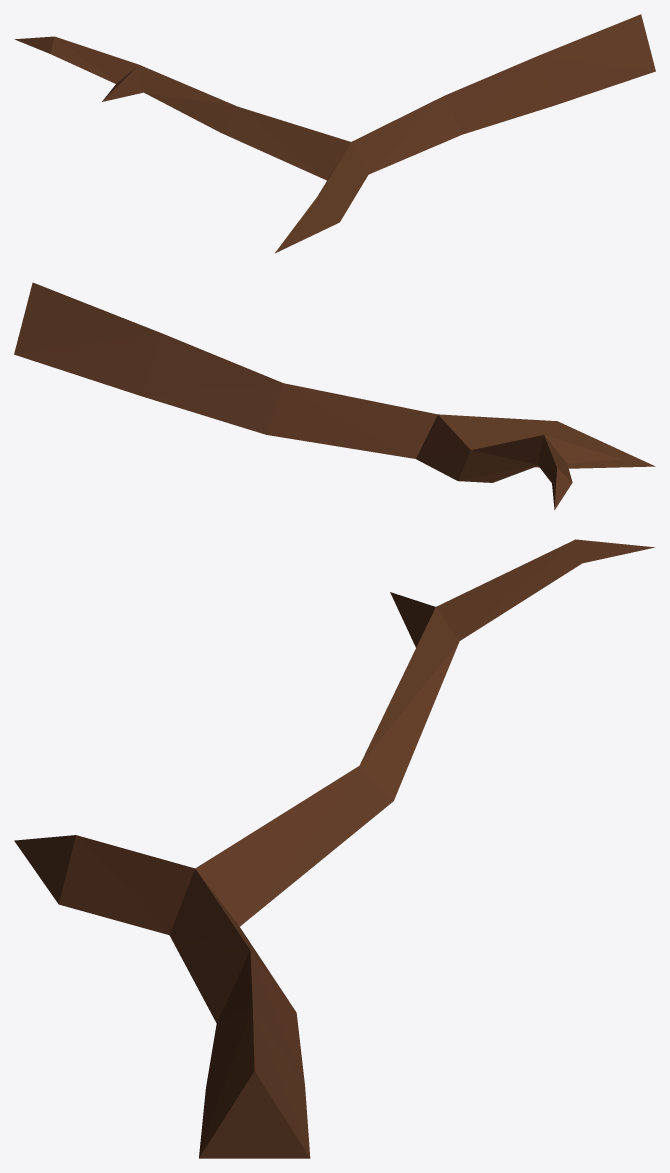
Rendered from PineBranch1.fbx.
The picture shows the model from 3 angles, top to bottom: view 1: azimuth 30°, elevation 25°; view 2: azimuth 150°, elevation 25°; view 3: azimuth 270°, elevation 25°; orthographic projection. The views are drawn at different scales.
Visible parts, largest first — view 1: PineBranch1; view 2: PineBranch1; view 3: PineBranch1.
Part boxes in pixels (x1,y1,x2,y2): PineBranch1: (15,14,655,253); PineBranch1: (14,282,655,509); PineBranch1: (14,539,655,1158).
Size of the model in its own units: 186 by 42.86 by 106.
